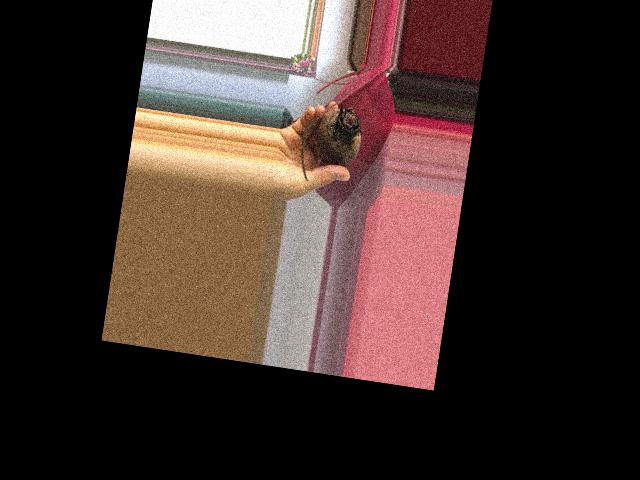beet: (296, 95, 366, 188)
